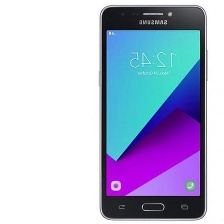phone: (95, 2, 209, 221)
